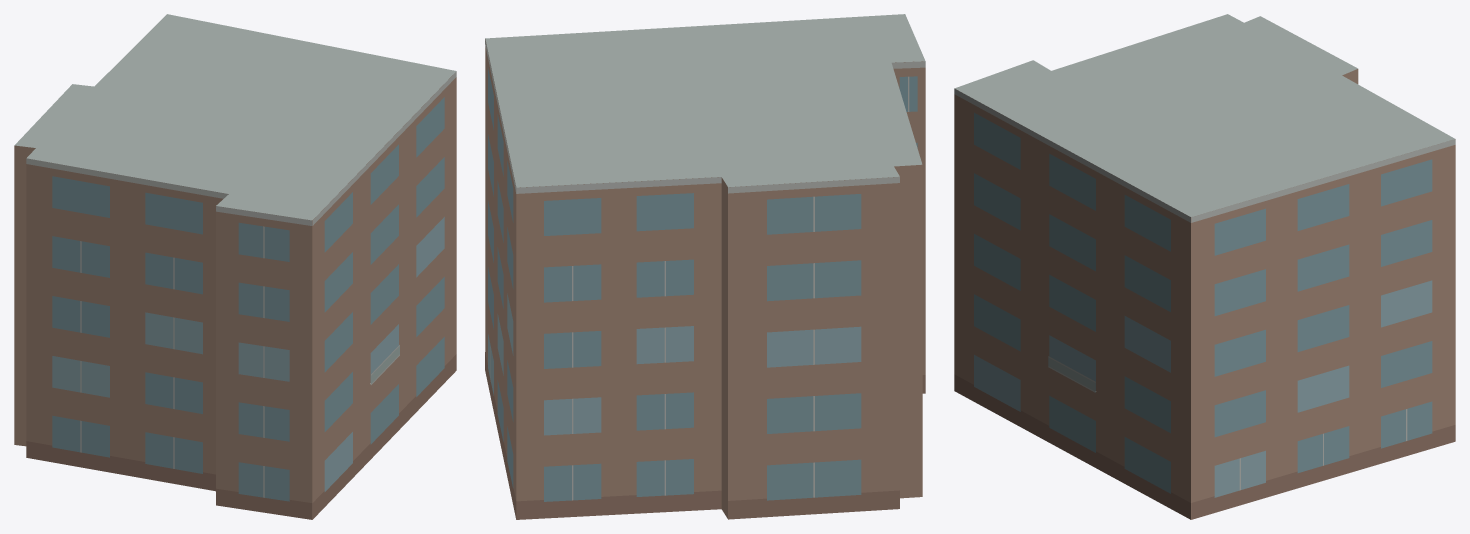
File: survey-upis-32737108.glb
The picture shows the model from 3 angles, left to right: view 1: azimuth 30°, elevation 25°; view 2: azimuth 150°, elevation 25°; view 3: azimuth 270°, elevation 25°; orthographic projection. The views are drawn at different scales.
Visible parts, largest first — view 1: survey-upis-32737108.tmp; view 2: survey-upis-32737108.tmp; view 3: survey-upis-32737108.tmp.
Boxes of the visible parts, x1,y1,x2,y2 form: survey-upis-32737108.tmp: (14,14,456,519); survey-upis-32737108.tmp: (485,14,925,519); survey-upis-32737108.tmp: (954,14,1455,519).
Size of the model in its own units: 18.52 by 12.85 by 19.29.
